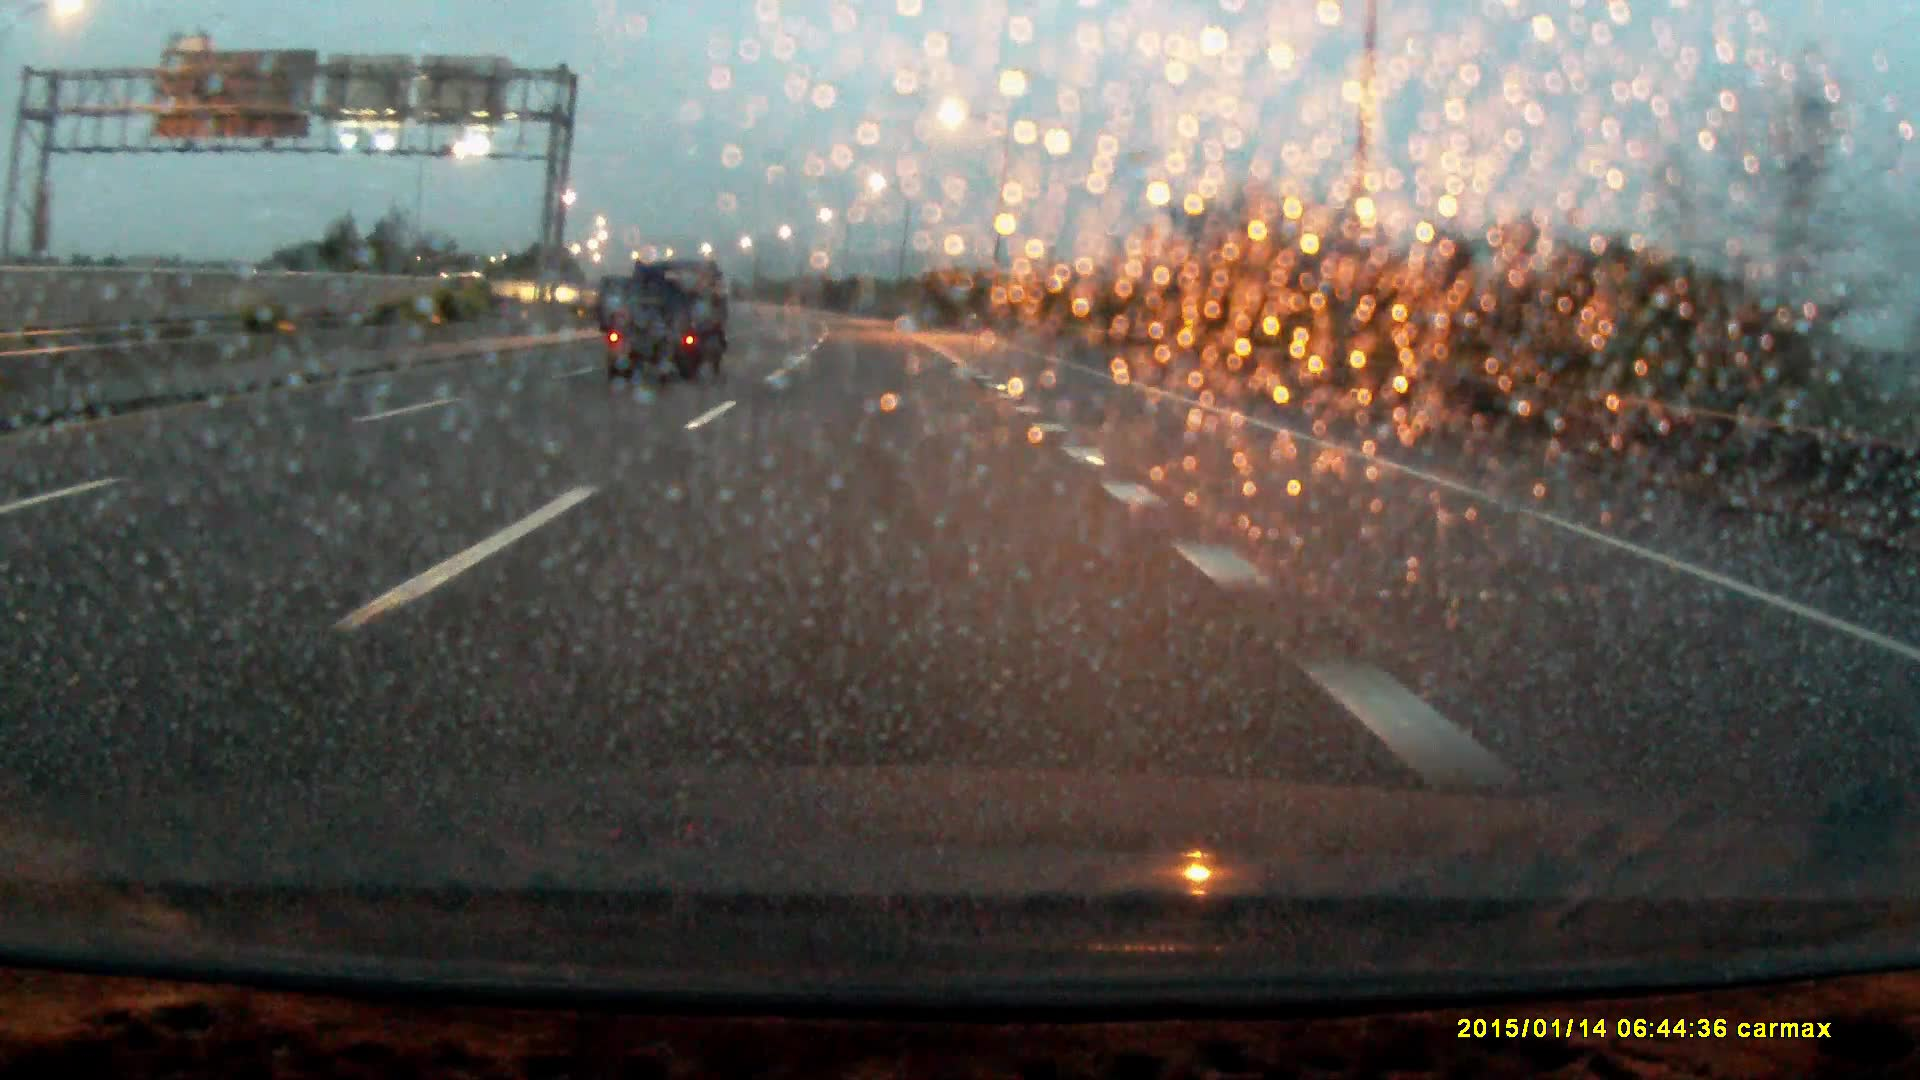vehicle: (604, 256, 733, 378), (439, 268, 534, 313)
